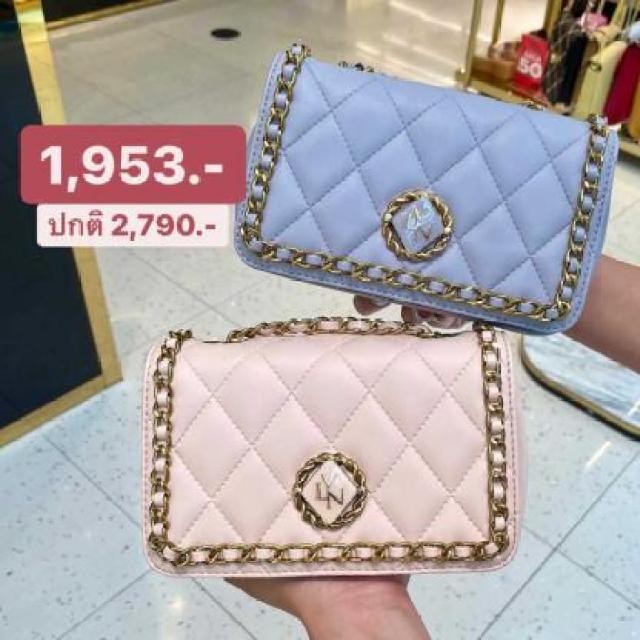Bag: (109, 280, 546, 598), (211, 38, 624, 364)
